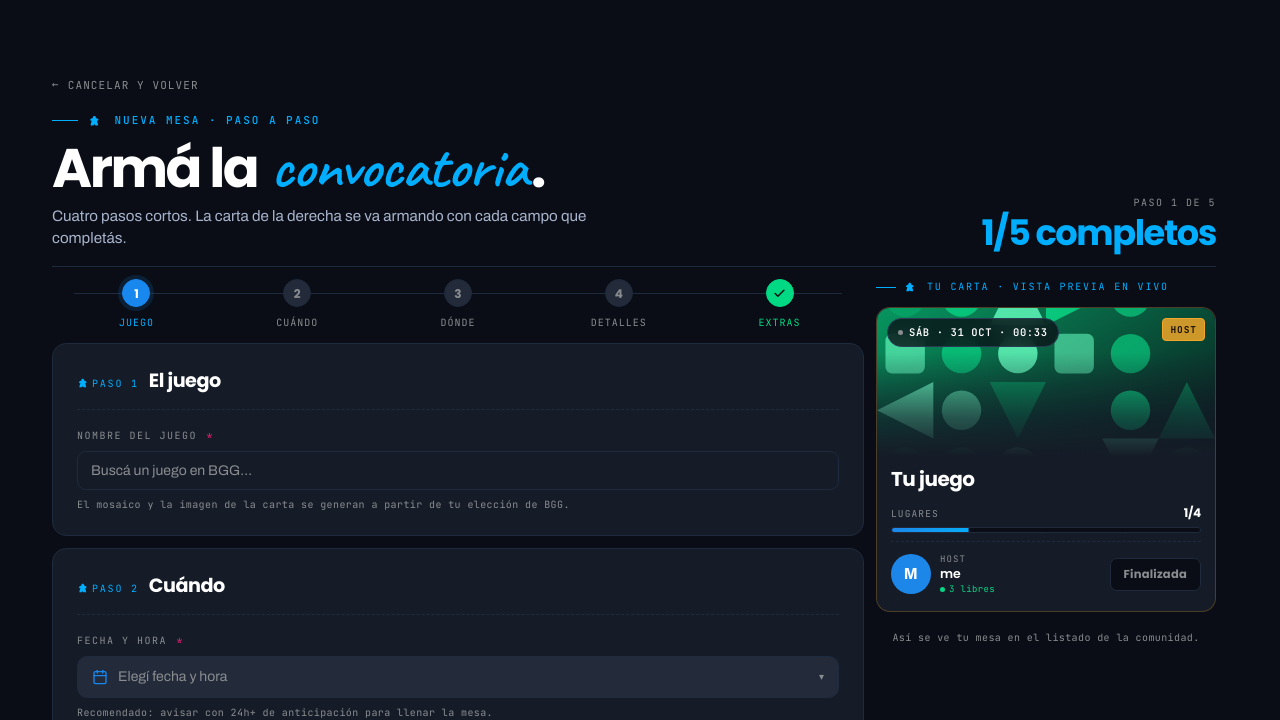
Test: <CreateTable> (standalone — wizard) › shows BGG suggestions after typing ≥3 characters
Type "cat" into the field with placeholder "Buscá un juego en BGG…".
click(458, 470); type("cat")  # box top-left (77, 451), bottom-right (839, 490)
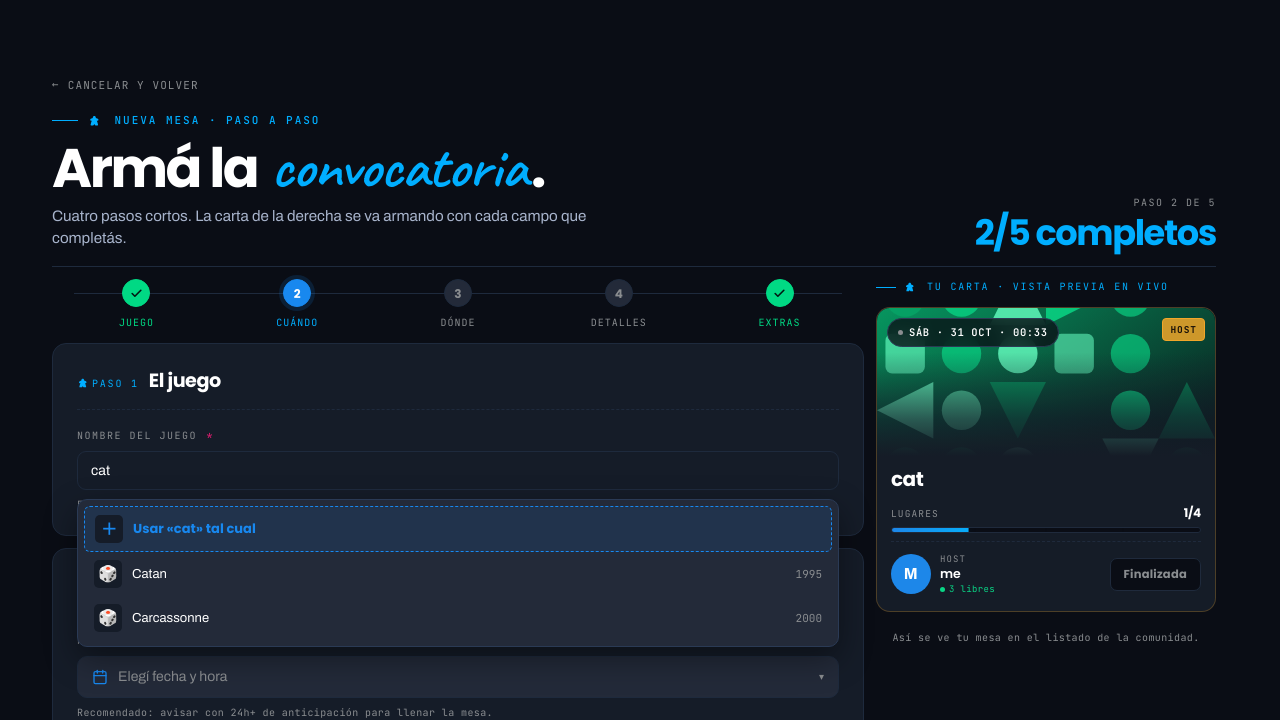
Now the text "Catan" is shown, box top-left (132, 567), bottom-right (167, 581)
Now the text "Carcassonne" is shown, box top-left (132, 611), bottom-right (209, 625)
